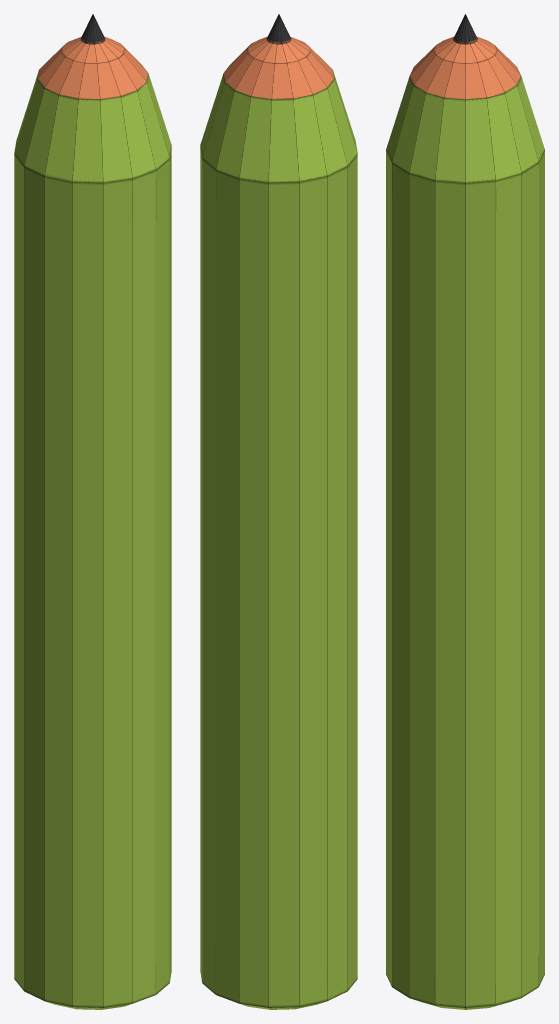
Rendered from pencil Lime.fbx.
3 renders of one model, left to right at view 1: azimuth 30°, elevation 25°; view 2: azimuth 150°, elevation 25°; view 3: azimuth 270°, elevation 25°, orthographic.
Parts seen in each view (by area): view 1: Pencil; view 2: Pencil; view 3: Pencil.
Part boxes in pixels (x1,y1,x2,y2): Pencil: [14, 14, 171, 1009]; Pencil: [200, 14, 357, 1009]; Pencil: [386, 14, 544, 1009].
Bounding box in the file's own units: 17.45 × 118 × 17.45.
